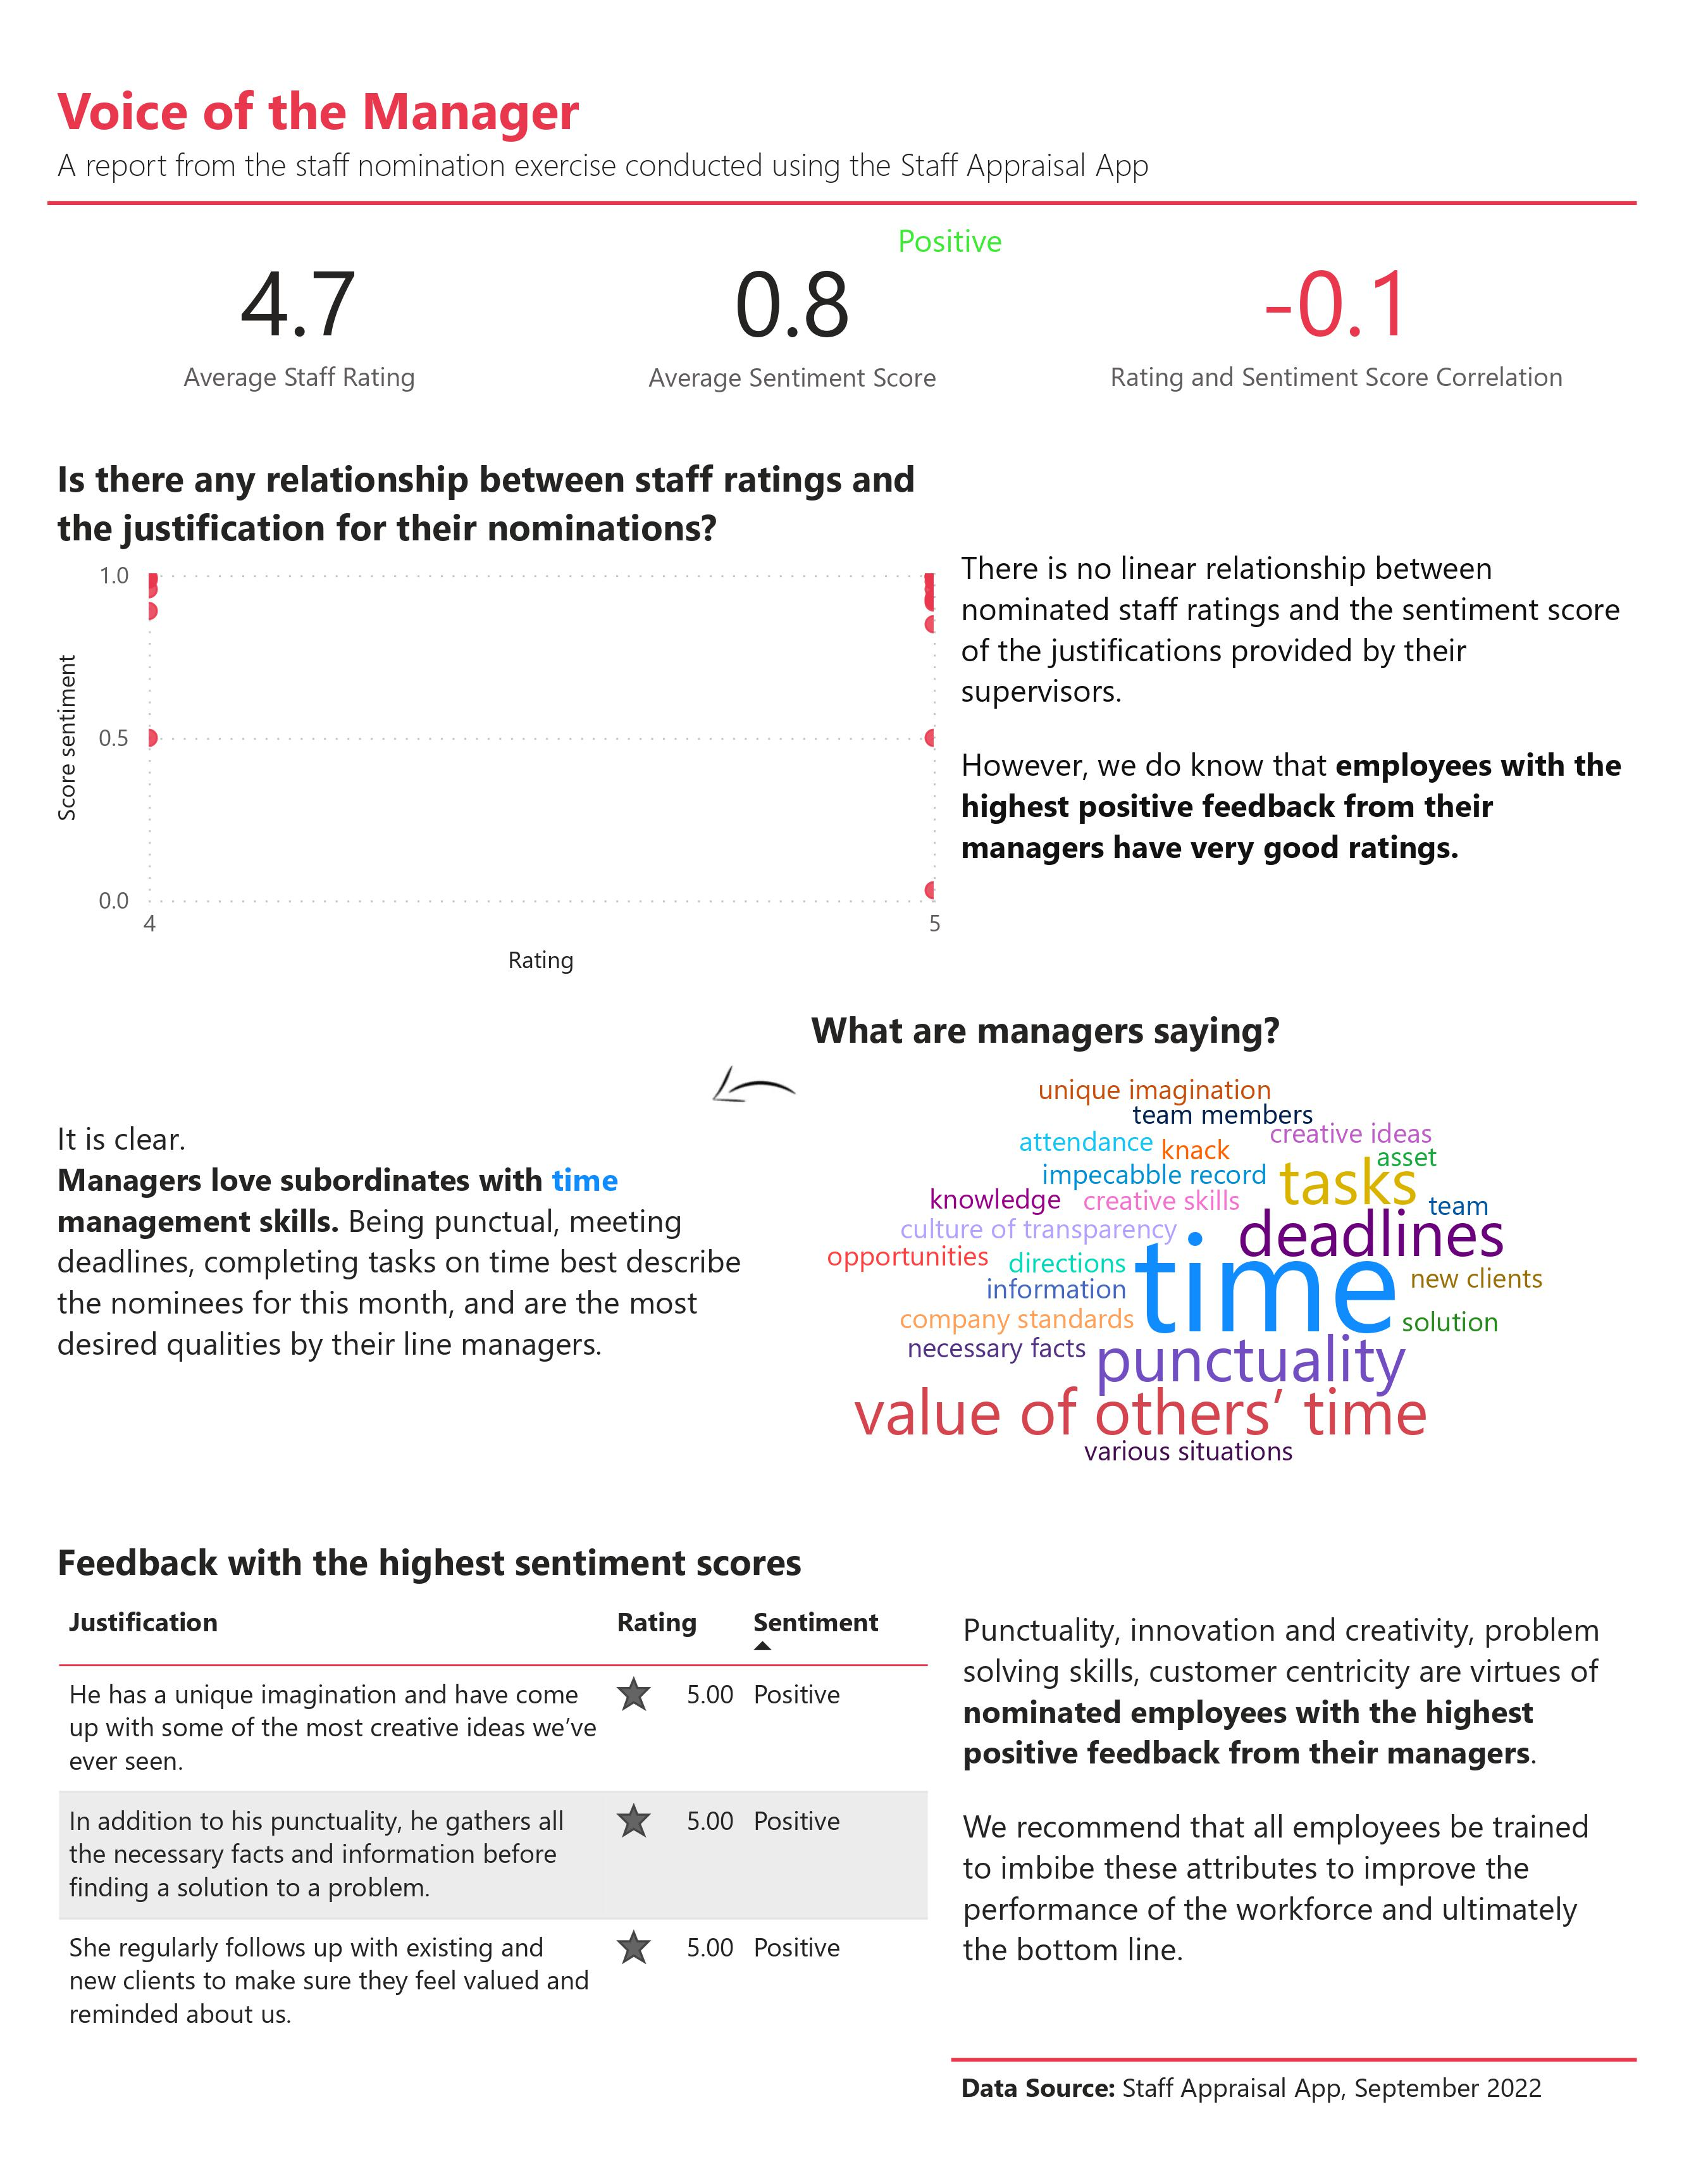

This screenshot's page, from the dashboard's own definition file:
{"tool":"powerbi","page":{"name":"Insights","canvas":[816,1056],"ordinal":0},"visuals":[{"type":"card","fields":{"Values":["Avg(Sentiment Scores.Rating)"]},"box":[25.4,71.7,208.7,115.7],"z":0},{"type":"card","fields":{"Values":["Avg(Sentiment Scores.Score sentiment)"]},"box":[265.5,71.7,232.6,115.7],"z":1000,"group":"g1"},{"type":"card","fields":{"Values":["Sentiment Scores.Rating and Score sentiment correlation for Id"]},"box":[529.3,72,266,115],"z":1000},{"type":"scatterChart","title":"Is there any relationship between staff ratings and the justification for their nominations?","fields":{"X":["Sentiment Scores.Rating"],"Y":["Sentiment Scores.Score sentiment"]},"box":[0,200,464,273],"z":2000},{"type":"WordCloud1447959067750","title":"What are managers saying?","fields":{"Category":["Key Phrases.Key Phrases"],"Values":["Sum(Key Phrases.Frequency)"]},"box":[387,483,429,273],"z":3000},{"type":"tableEx","title":"Feedback with the highest sentiment scores","fields":{"Values":["Sentiment Scores.Justification","Avg(Sentiment Scores.Rating)","Sentiment Scores.Sentiment"]},"box":[0,755.9,465,268],"z":4000},{"type":"textbox","box":[0,0,816,71.7],"z":5000},{"type":"textbox","box":[464,243,352,186],"z":6000},{"type":"textbox","box":[0,536,382.5,167.2],"z":7000},{"type":"image","box":[313.8,499.4,93.9,57.3],"z":8000},{"type":"textbox","box":[465,788,350,204],"z":9000},{"type":"group","id":"g1","title":"Group 1","box":[265.5,71.7,243.5,115.7],"z":10000},{"type":"card","fields":{"Values":["Sentiment Scores.Sentiment"]},"box":[418,78,91,30],"z":10001,"group":"g1"},{"type":"shape","box":[0,66,816,12],"z":11000},{"type":"textbox","box":[464,1025,352,31],"z":12000},{"type":"shape","box":[464,1019,352,12],"z":13000}]}

Visuals, with their boxes in screenshot pixels (x1, y1, x2, y2):
card - Avg(Sentiment Scores.Rating): [97, 189, 511, 418]
card - Avg(Sentiment Scores.Score sentiment): [572, 189, 1032, 418]
card - Sentiment Scores.Rating and Score sentiment correlation for Id: [1094, 190, 1619, 417]
"Is there any relationship between staff ratings and the justification for their nominations?" scatterChart: [47, 443, 965, 983]
"What are managers saying?" WordCloud1447959067750: [812, 1002, 1661, 1543]
"Feedback with the highest sentiment scores" tableEx: [47, 1542, 967, 2072]
textbox: [47, 47, 1661, 189]
textbox: [965, 528, 1661, 896]
textbox: [47, 1107, 803, 1438]
image: [668, 1035, 853, 1148]
textbox: [967, 1606, 1659, 2009]
"Group 1" group: [572, 189, 1054, 418]
card - Sentiment Scores.Sentiment: [874, 202, 1054, 261]
shape: [47, 178, 1661, 202]
textbox: [965, 2074, 1661, 2136]
shape: [965, 2062, 1661, 2086]
